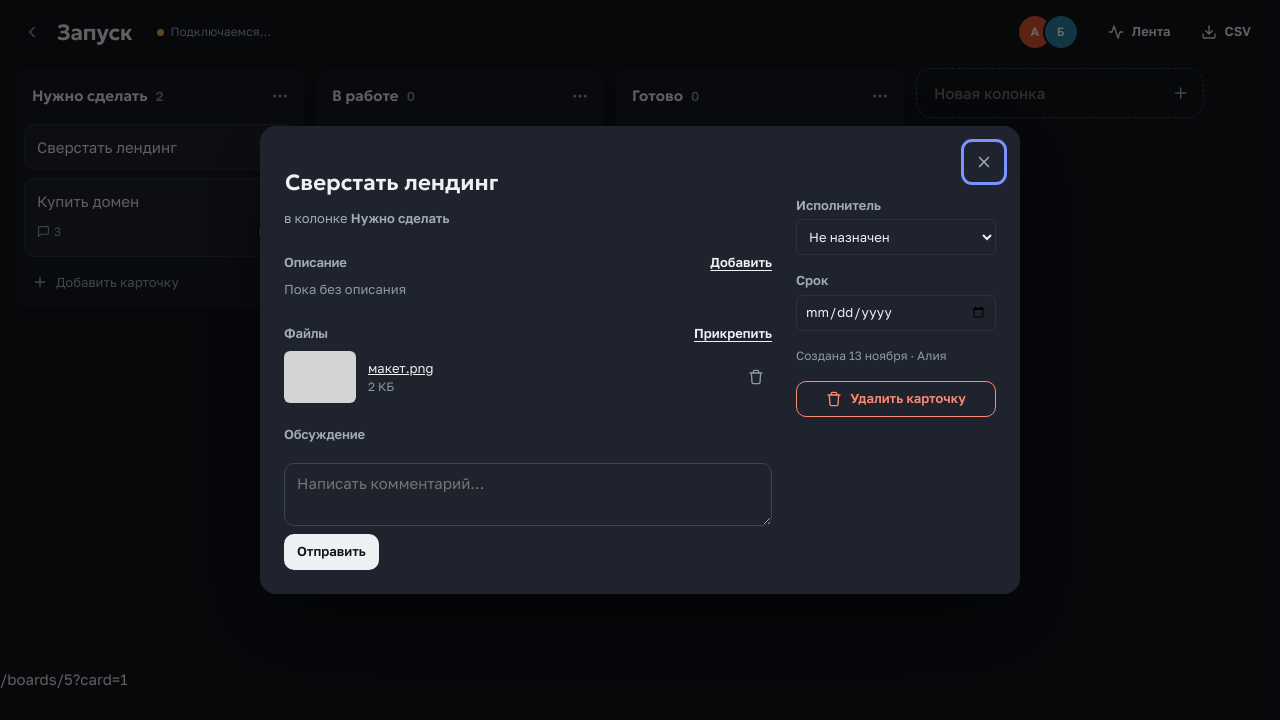
карточка: поля, комментарии, файлы › исполнитель, комментарий и удаление файла
Select "Бауыржан" in the dropdown labelled "Исполнитель". click: (896, 238)
box: x1=796 y1=220 x2=996 y2=256
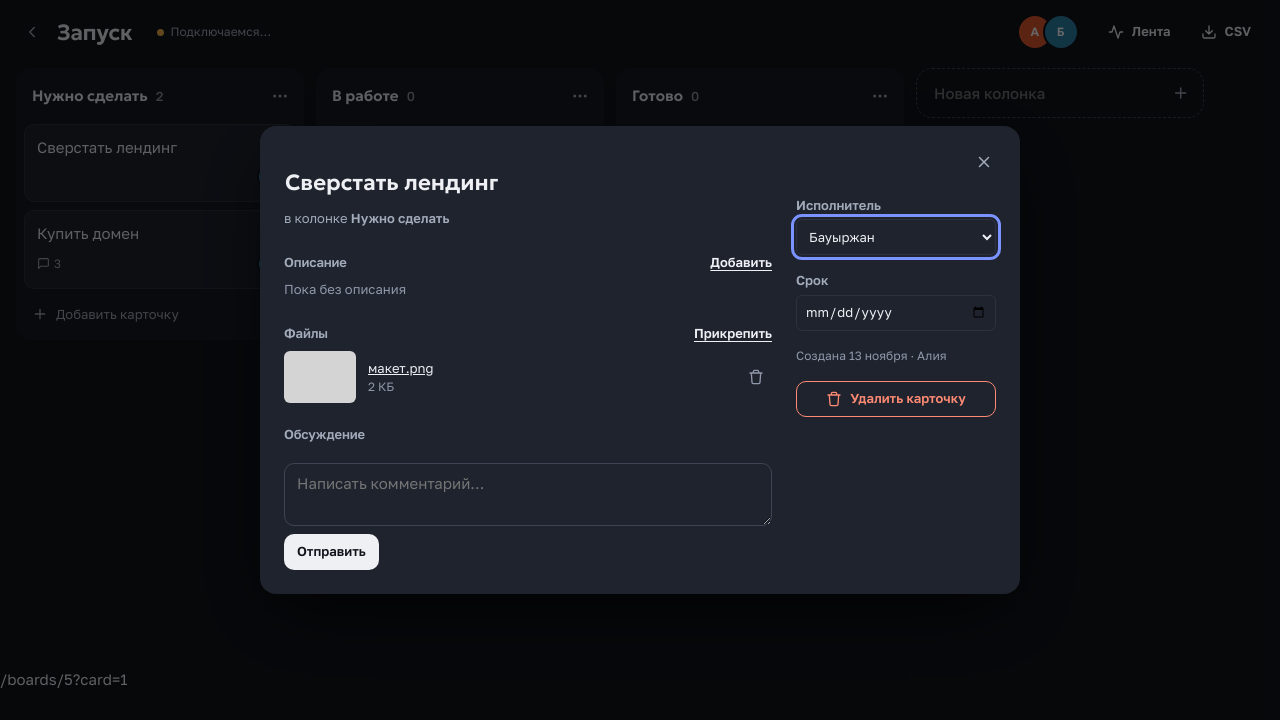
Type "Готово" into the text box named "Новый комментарий". click: (528, 494)
box: x1=284 y1=463 x2=772 y2=526
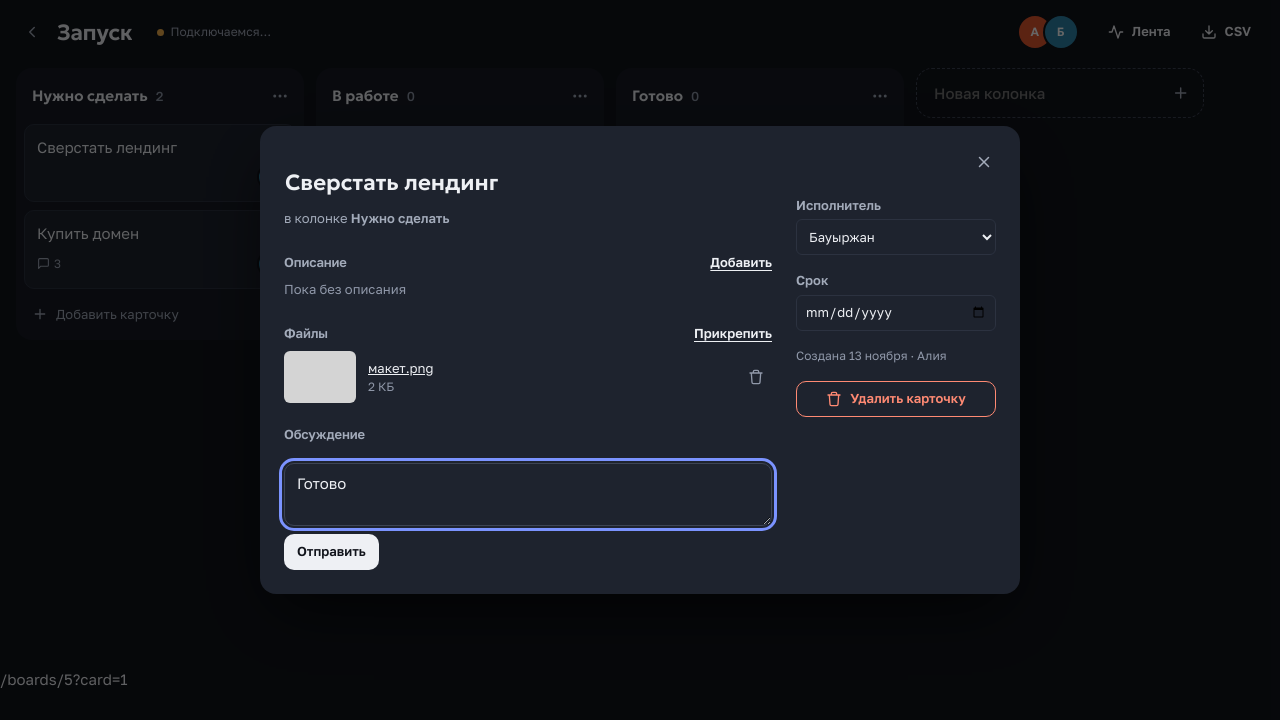
Click the button "Отправить". click: (331, 552)
box: x1=284 y1=534 x2=379 y2=570
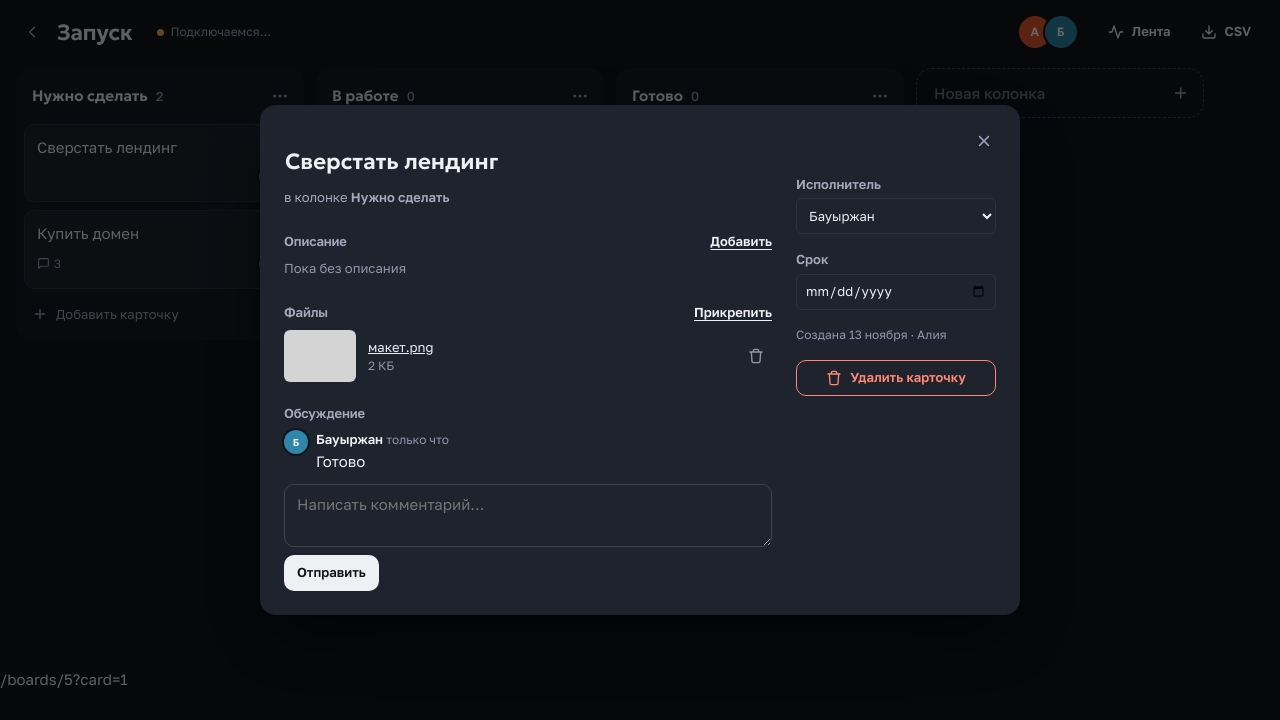
expect the text "2 КБ" is shown: met, box x1=368 y1=358 x2=394 y2=373
expect the text "Готово" is shown: met, box x1=316 y1=452 x2=365 y2=470
Click the button named "Удалить макет.png". click: (756, 356)
box: x1=740 y1=340 x2=772 y2=372
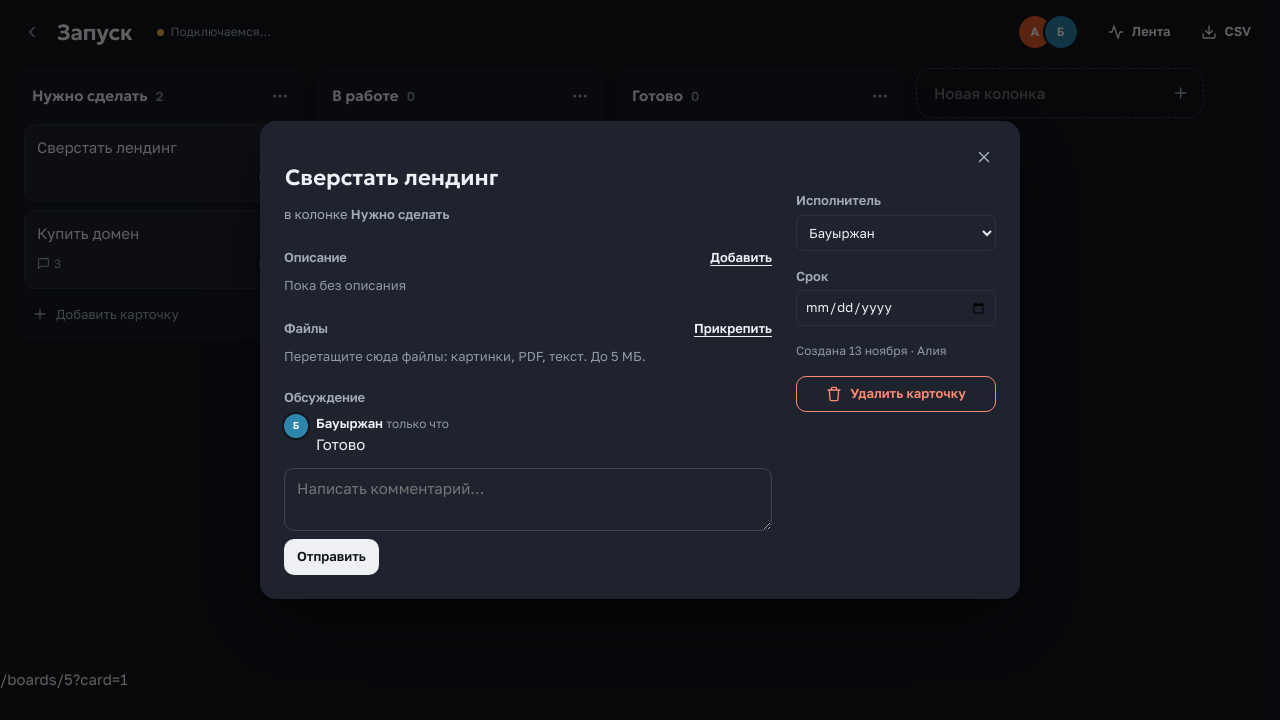
expect the link "макет.png" is gone: met
